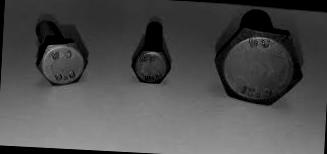hexagonal: (211, 25, 305, 108), (34, 36, 88, 87), (128, 46, 172, 84)
